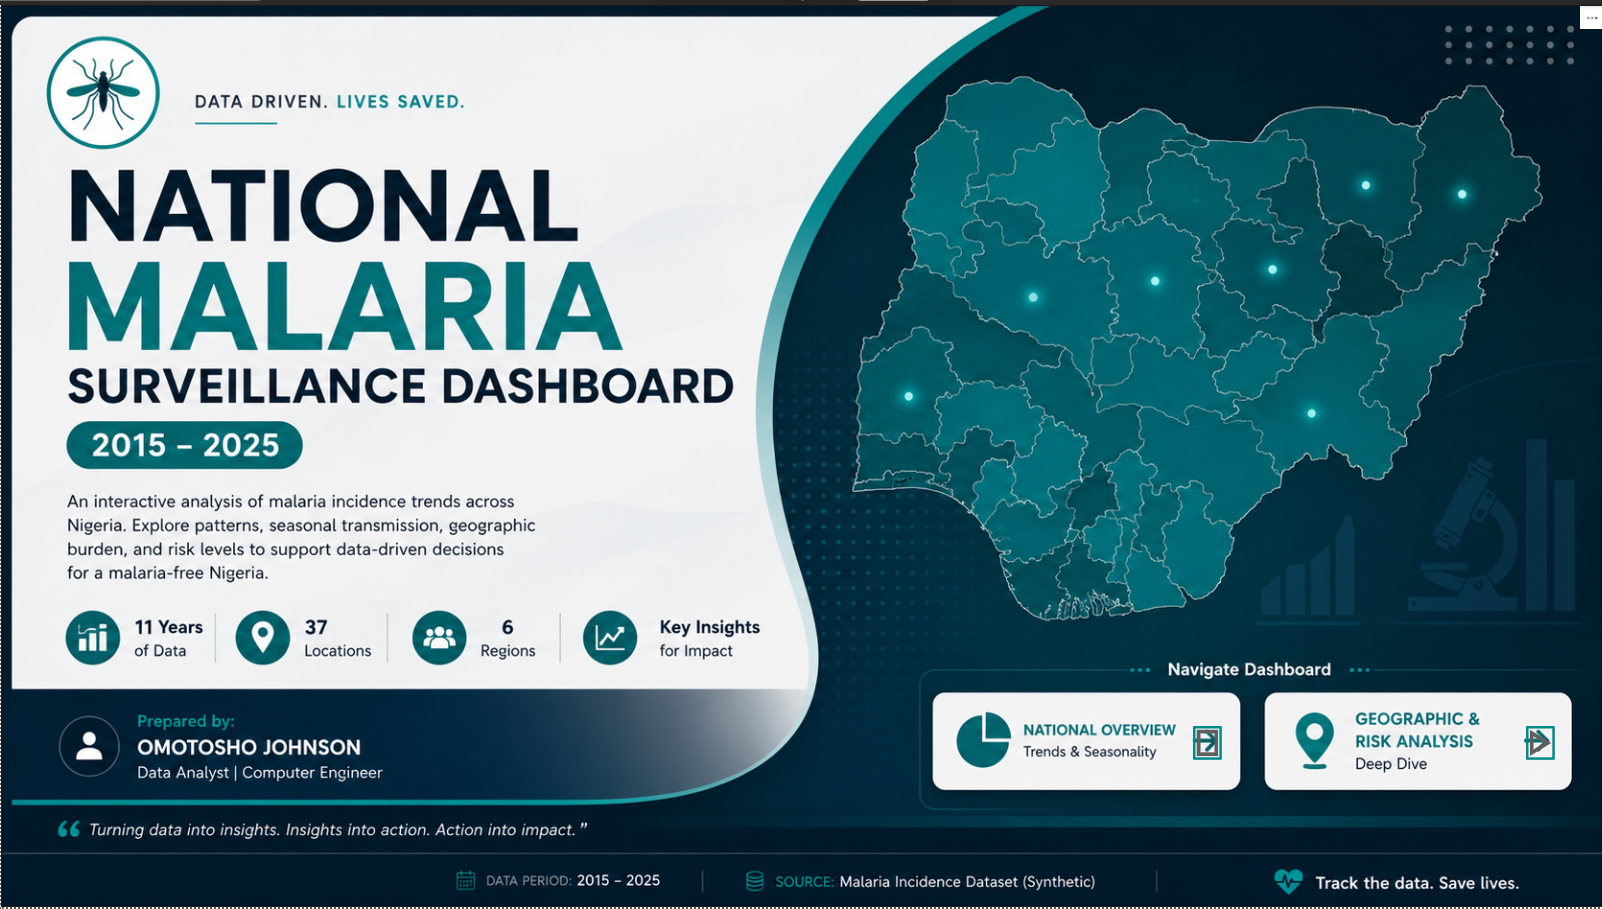

The page's visual inventory and layout, read from the dashboard file:
{"tool":"powerbi","page":{"name":"Home page","canvas":[1280,720],"ordinal":0},"visuals":[{"type":"image","box":[0,0,1280,720],"z":0},{"type":"actionButton","box":[951.8,575.3,23.2,27],"z":1000},{"type":"actionButton","box":[1217.1,575.3,23.2,27],"z":2000}]}

Visuals, with their boxes in screenshot pixels (x1, y1, x2, y2), scaled from the page's 1280x720 canvas onto the 1602x909 screenshot:
image: l=0, t=0, r=1601, b=908
actionButton: l=1191, t=726, r=1220, b=760
actionButton: l=1523, t=726, r=1552, b=760
